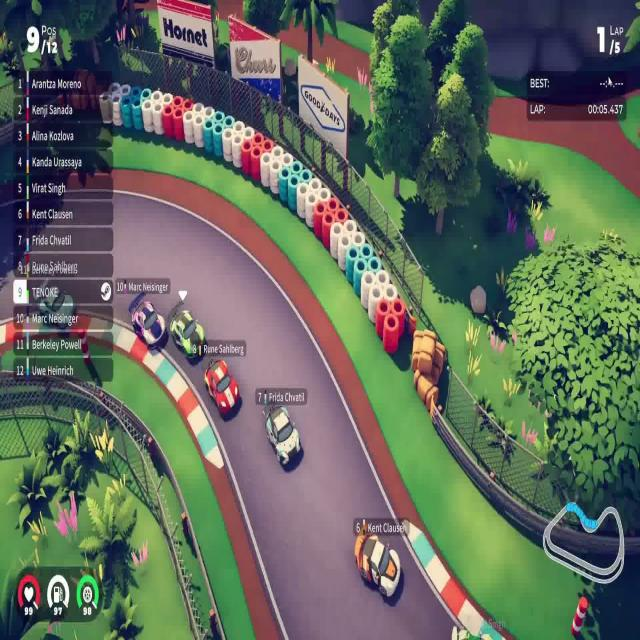car: (353, 524, 401, 599), (265, 404, 301, 468), (128, 292, 167, 351), (203, 358, 240, 418), (169, 306, 206, 362)
